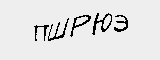П: (29, 22, 49, 43)
Р: (70, 13, 90, 39)
Ш: (47, 16, 70, 41)
Э: (115, 11, 131, 33)
Ю: (90, 10, 112, 36)
